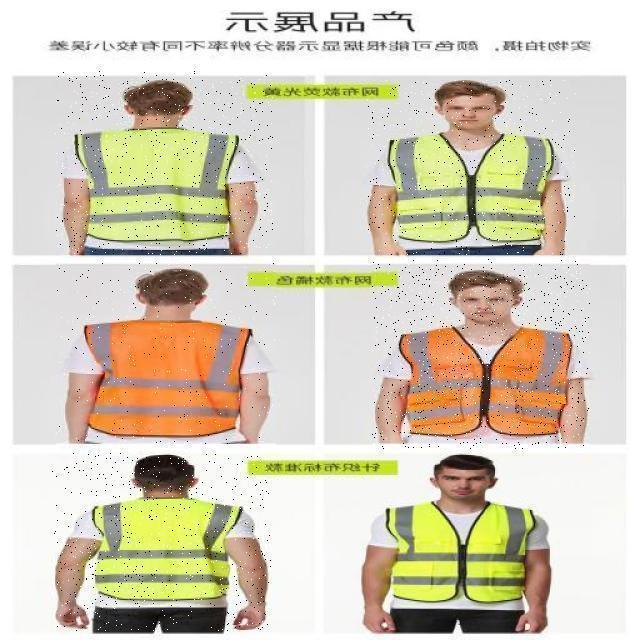no helmet: (104, 58, 210, 158), (420, 263, 533, 341), (428, 68, 514, 150), (138, 258, 232, 332), (126, 438, 212, 512), (425, 445, 500, 509)
person: (371, 260, 590, 450), (56, 264, 276, 448), (55, 71, 273, 255), (52, 452, 271, 630), (350, 457, 570, 632), (365, 80, 576, 255)
vest: (392, 327, 586, 441), (70, 322, 254, 437), (378, 132, 558, 247), (72, 126, 242, 240), (378, 501, 552, 607), (82, 502, 242, 606)
